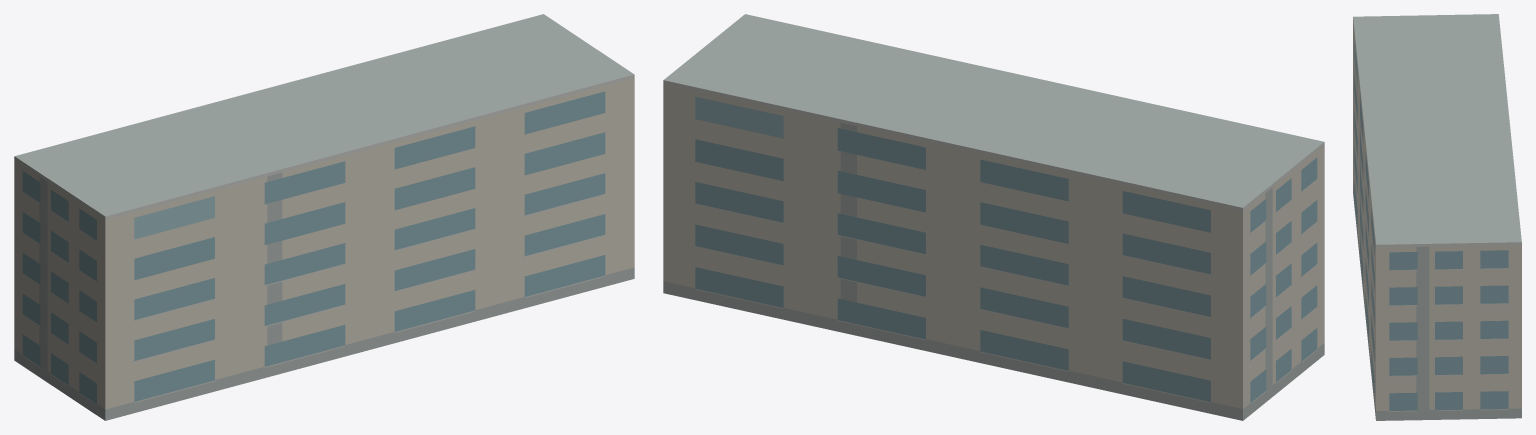
File: residential-3432cfea-c22d-4542-b96d-385a7ef60546.glb
3 views of the same model, side by side, from view 1: azimuth 30°, elevation 25°; view 2: azimuth 150°, elevation 25°; view 3: azimuth 270°, elevation 25° (orthographic). The views are drawn at different scales.
Visible parts, largest first — view 1: residential-3432cfea-c22d-4542-b96d-385a7ef60546.tmp; view 2: residential-3432cfea-c22d-4542-b96d-385a7ef60546.tmp; view 3: residential-3432cfea-c22d-4542-b96d-385a7ef60546.tmp.
Boxes of the visible parts, x1,y1,x2,y2 form: residential-3432cfea-c22d-4542-b96d-385a7ef60546.tmp: (14, 14, 634, 420); residential-3432cfea-c22d-4542-b96d-385a7ef60546.tmp: (663, 14, 1324, 420); residential-3432cfea-c22d-4542-b96d-385a7ef60546.tmp: (1353, 14, 1521, 420).
Bounding box in the file's own units: 42.87 × 15.25 × 13.26.
